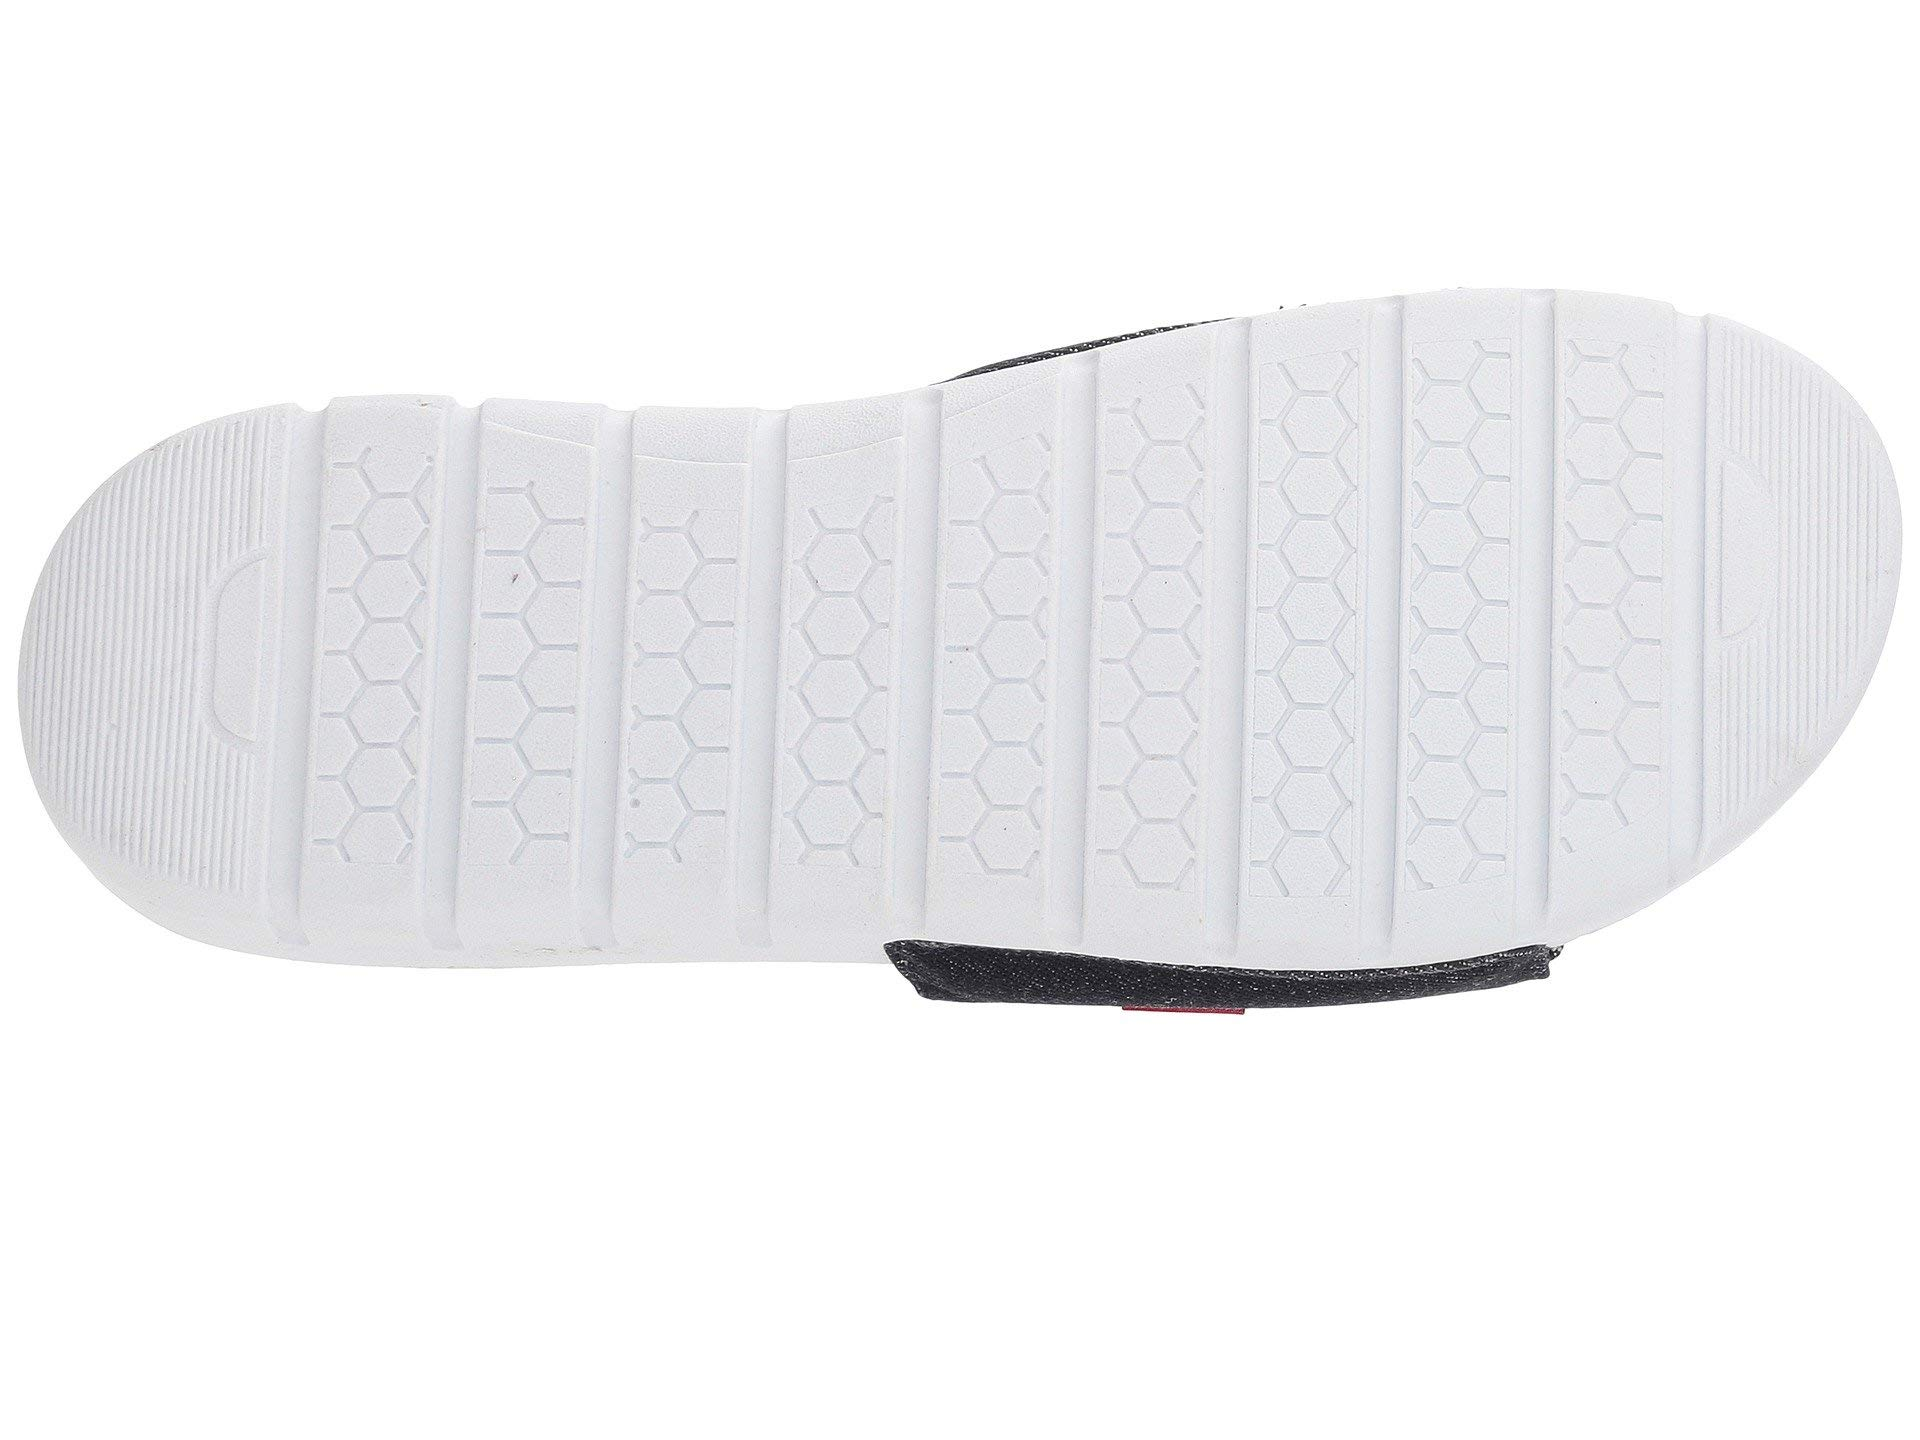line: (612, 470, 1150, 948), (1234, 336, 1690, 790), (139, 534, 570, 936)
polygon: (612, 470, 1150, 948), (1234, 336, 1690, 790), (139, 534, 570, 936)
quad: (139, 534, 570, 936)
